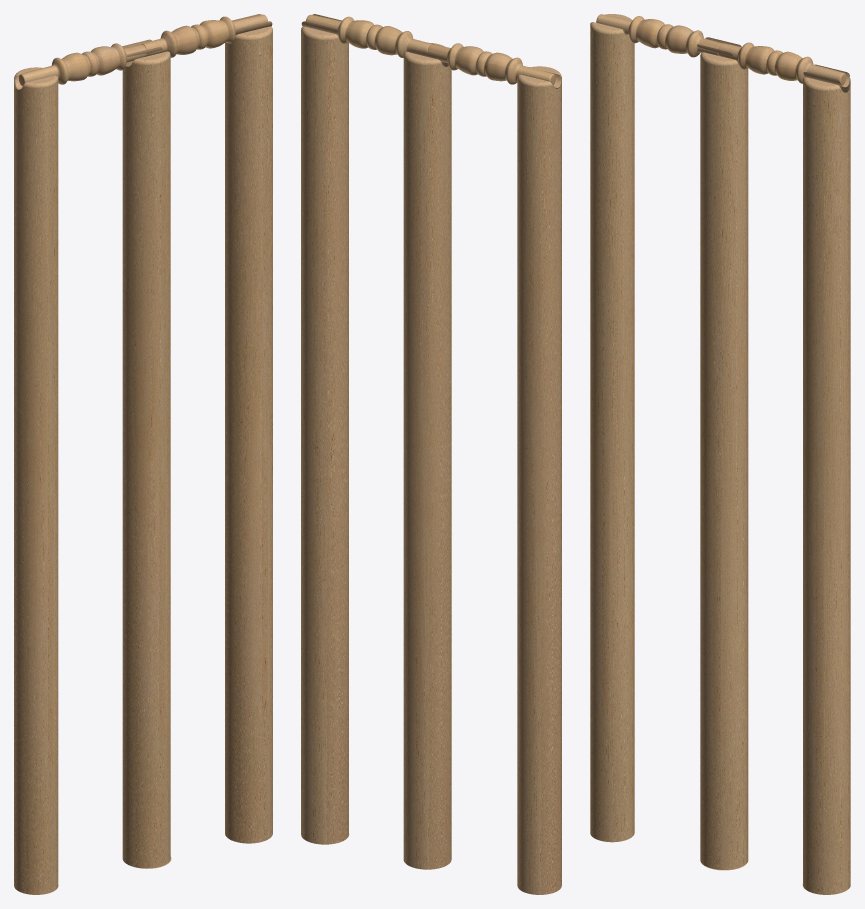
Rendered from Stumps.fbx.
3 renders of one model, left to right at view 1: azimuth 30°, elevation 25°; view 2: azimuth 150°, elevation 25°; view 3: azimuth 330°, elevation 25°, orthographic.
Parts seen in each view (by area): view 1: polySurface32; view 2: polySurface32; view 3: polySurface32.
Boxes of the visible parts, box(x1,y1,x2,y2) form: polySurface32: box(14, 14, 272, 894); polySurface32: box(301, 14, 561, 894); polySurface32: box(590, 14, 850, 894).
Size of the model in its own units: 20.13 by 62.33 by 3.36.
Materials: 1 (1 with a texture image).
